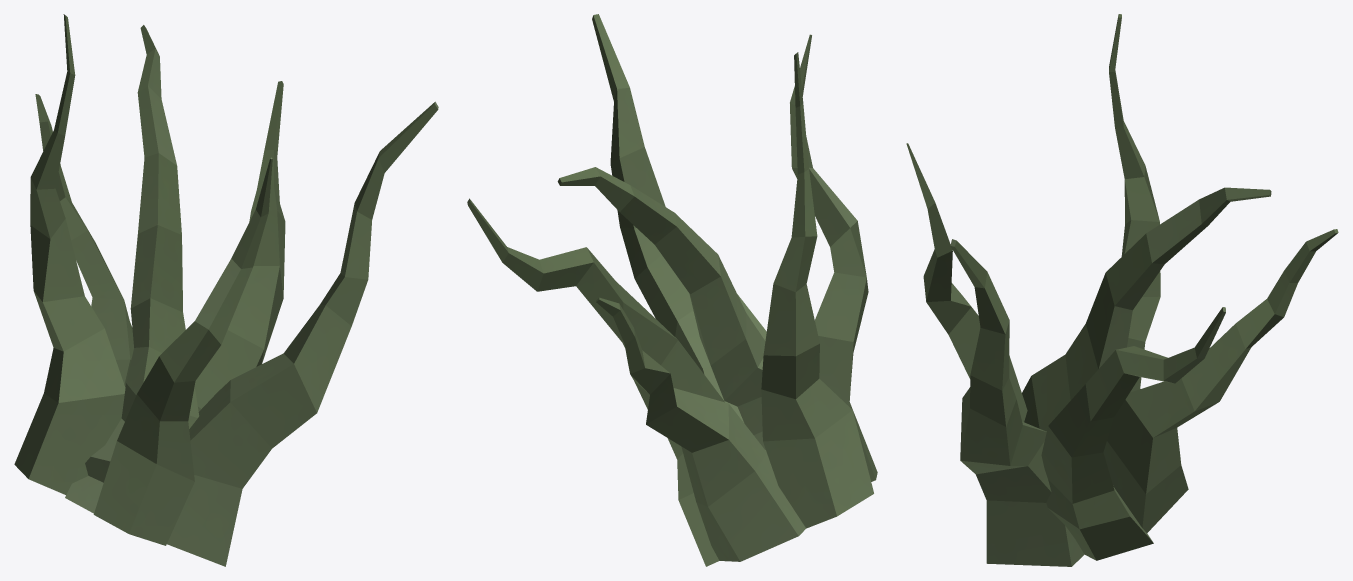
The model's file is grass_green_6.glb.
3 renders of one model, left to right at view 1: azimuth 30°, elevation 25°; view 2: azimuth 150°, elevation 25°; view 3: azimuth 270°, elevation 25°, orthographic. The views are drawn at different scales.
Visible parts, largest first — view 1: grass_green_6; view 2: grass_green_6; view 3: grass_green_6.
Boxes of the visible parts, bbox=[...] form: grass_green_6: bbox=[14, 14, 438, 566]; grass_green_6: bbox=[467, 14, 877, 566]; grass_green_6: bbox=[906, 14, 1338, 566].
Bounding box in the file's own units: 0.2476 × 0.3614 × 0.2785.
Materials: 1 (1 with a texture image).
